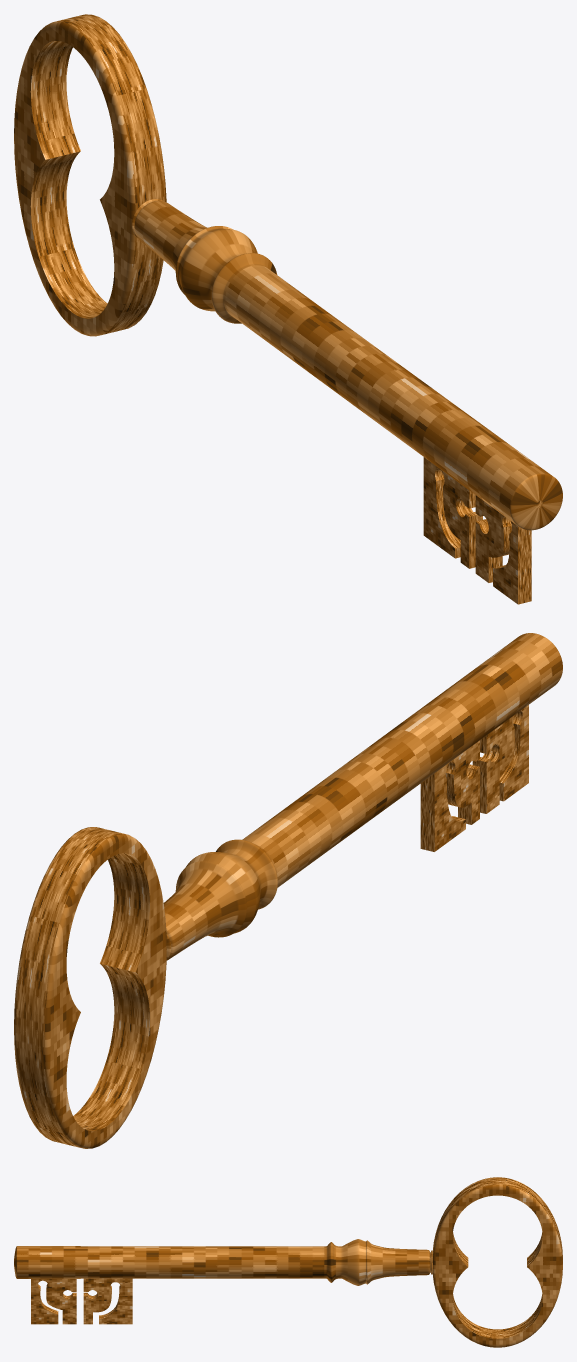
Rendered from Key.fbx.
The picture shows the model from 3 angles, top to bottom: view 1: azimuth 30°, elevation 25°; view 2: azimuth 150°, elevation 25°; view 3: azimuth 270°, elevation 25°; orthographic projection. The views are drawn at different scales.
Parts seen in each view (by area): view 1: Line001; view 2: Line001; view 3: Line001.
Boxes of the visible parts, <box> form: Line001: <box>14,14,562,604</box>; Line001: <box>14,633,562,1148</box>; Line001: <box>14,1177,562,1347</box>.
Bounding box in the file's own units: 0.549 × 2.11 × 6.42.
